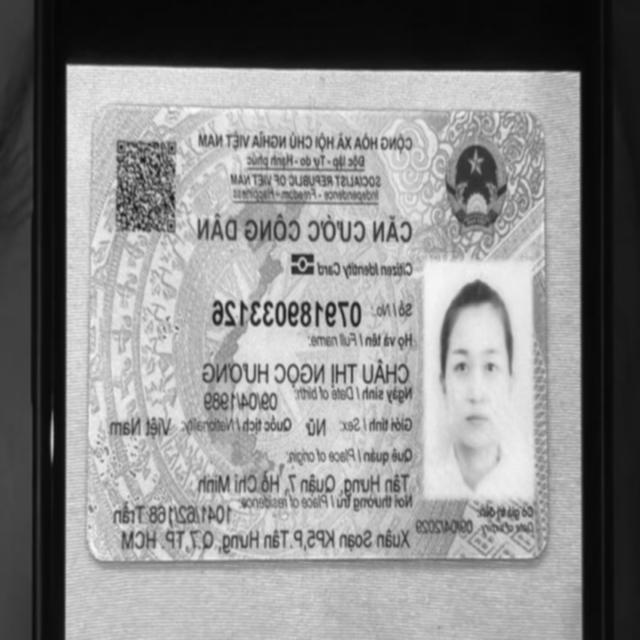bottom_left: (518, 526, 558, 570)
bottom_right: (77, 528, 118, 573)
image_person: (421, 265, 528, 496)
top_left: (512, 103, 552, 146)
top_right: (82, 95, 122, 138)
